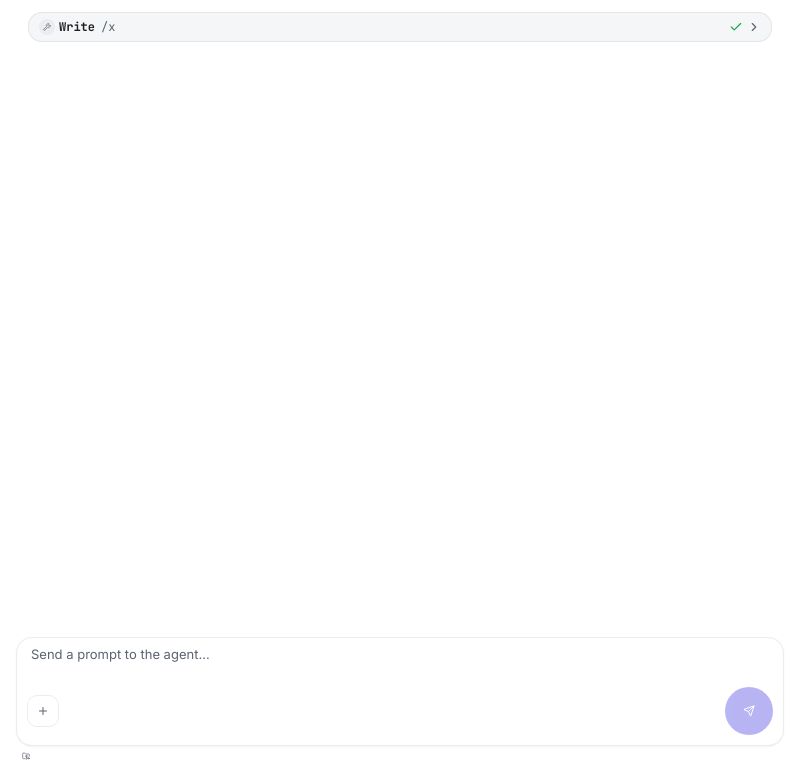
Scenario: ChatPanel (redesign #99 — structured conversation) › renders a structured tool card with an args summary and an expandable diff
Check: the text with test id "chat-tool-input" reads "/x", box [101, 18, 115, 34]
Click the button "Write /x" at (77, 26), box [29, 13, 771, 41]
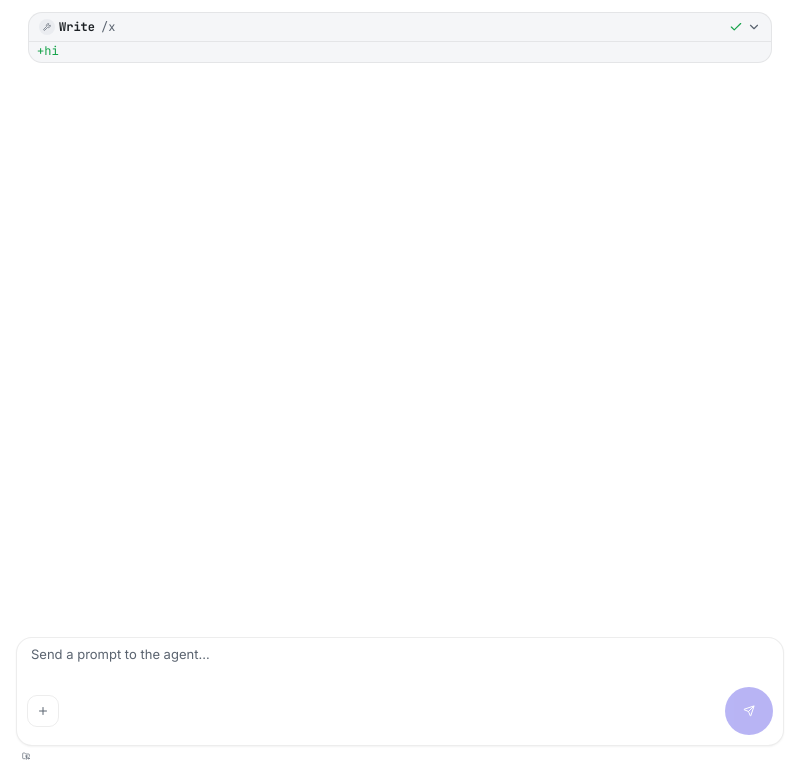
Check: the element with test id "chat-tool-diff" reads "+hi", box [37, 43, 59, 59]
